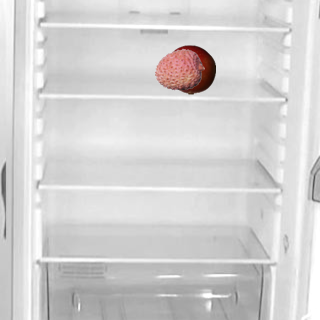Apple Braeburn: (165, 44, 215, 94)
Lychee: (154, 44, 204, 94)
